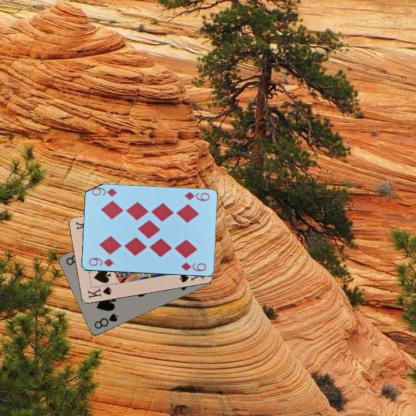8s: (91, 311, 119, 330)
9d: (86, 255, 115, 268), (182, 190, 210, 202)
Ks: (85, 284, 113, 300)
